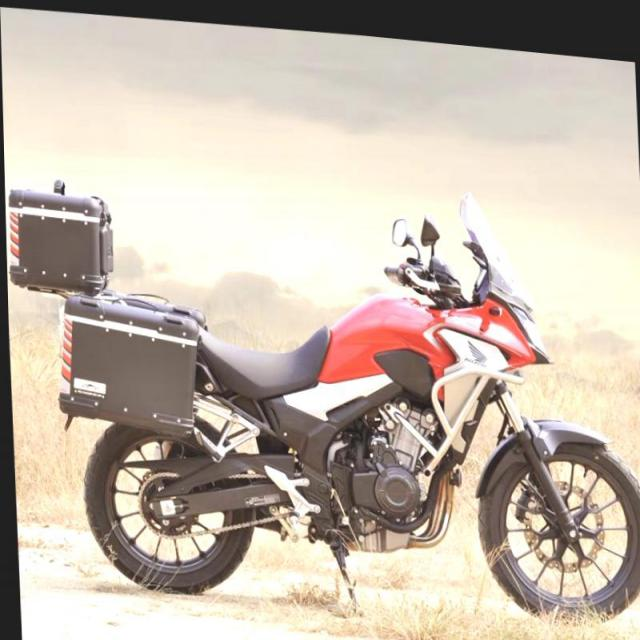CB500X: (2, 143, 640, 630)
